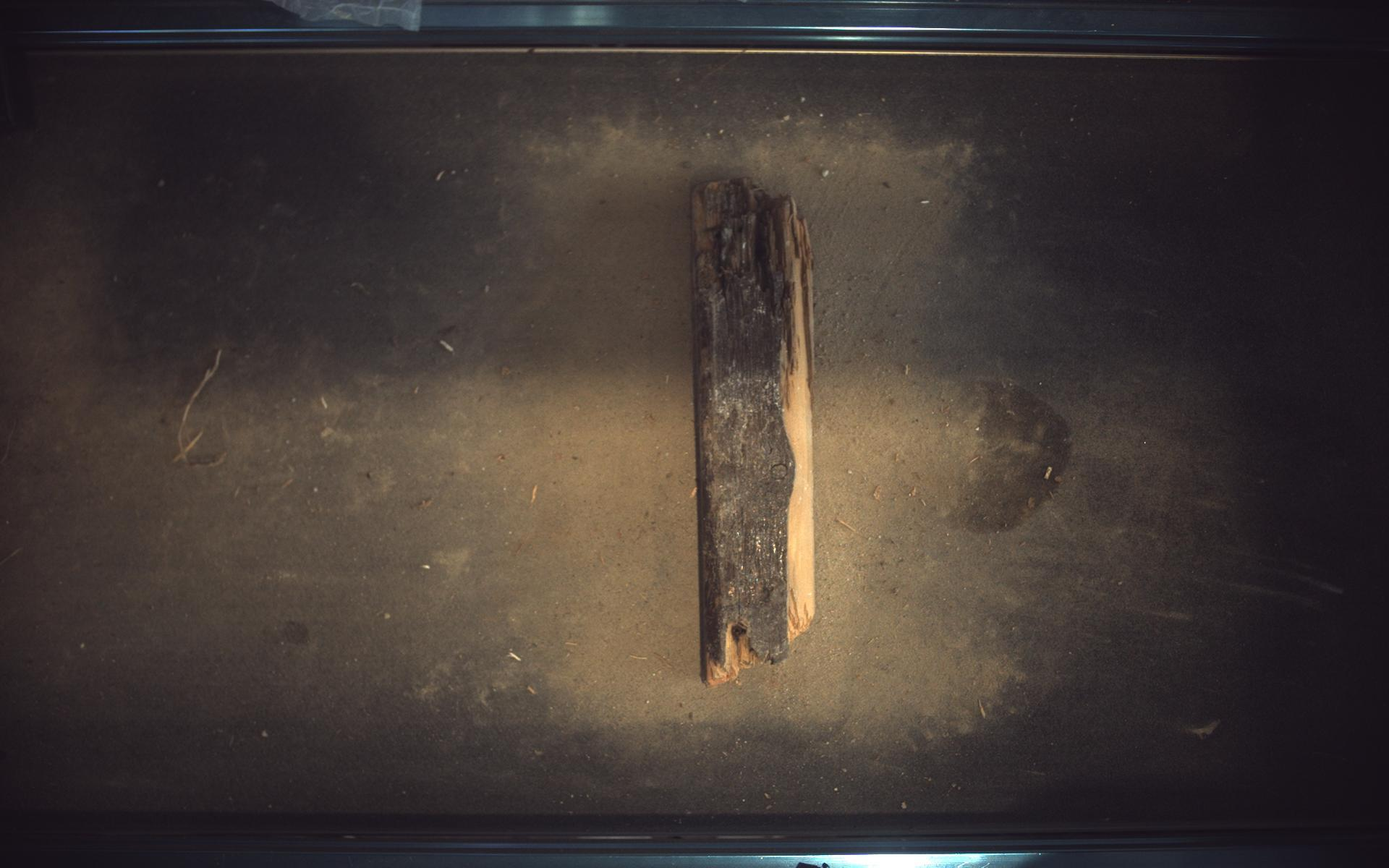wood: (693, 178, 817, 686)
